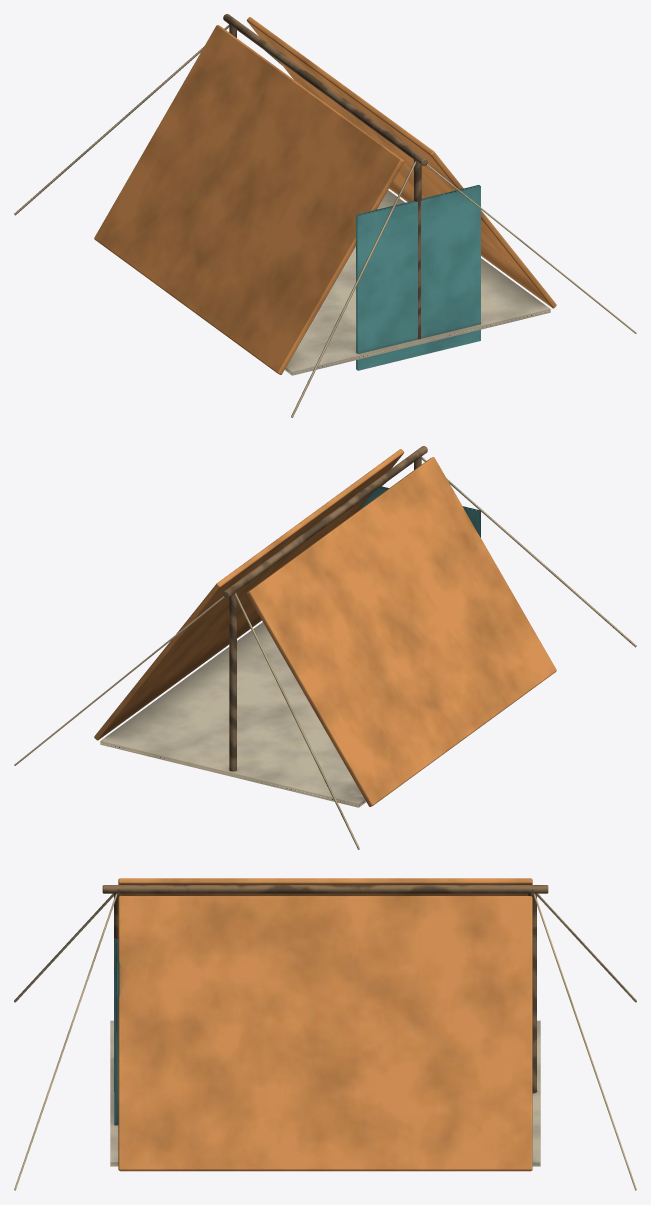
File: tent.glb
3 renders of one model, top to bottom at view 1: azimuth 30°, elevation 25°; view 2: azimuth 150°, elevation 25°; view 3: azimuth 270°, elevation 25°, orthographic. The views are drawn at different scales.
Visible parts, largest first — view 1: Tent; view 2: Tent; view 3: Tent.
Part boxes in pixels (box(x1,y1,x2,y2)): Tent: box(14, 14, 636, 417); Tent: box(14, 446, 636, 849); Tent: box(14, 878, 636, 1190).
Size of the model in its own units: 2.81 by 1.56 by 3.91.
Materials: 5 (5 with a texture image).
